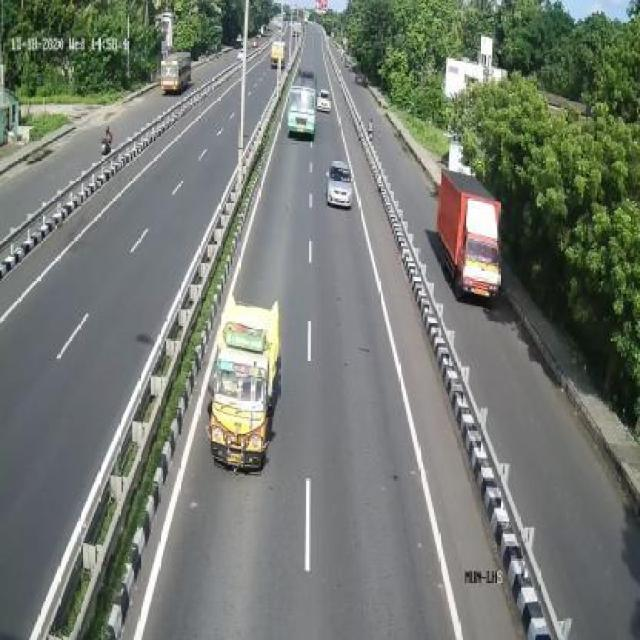car: (209, 288, 283, 475), (326, 155, 356, 214)
